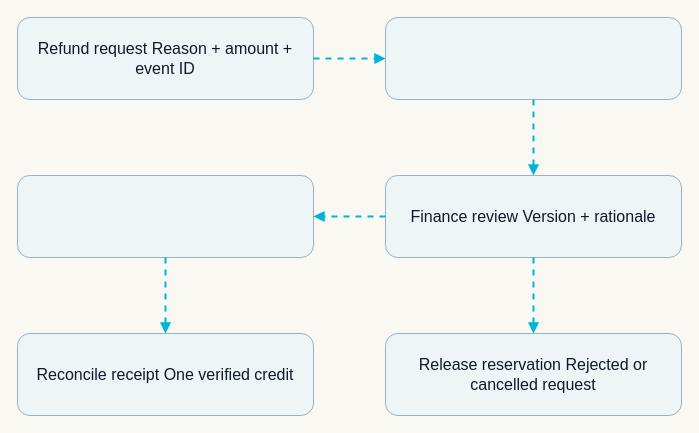
Some shapes in this 699 by 433 pixel diagram are drawn without their labels. Here are the shapes that lost their labels. From the top down, the centre of each, then its label:
At (x=533, y=58): "Reserve allowance Pending requests count".
At (x=165, y=216): "Provider credit Stable action identity".
